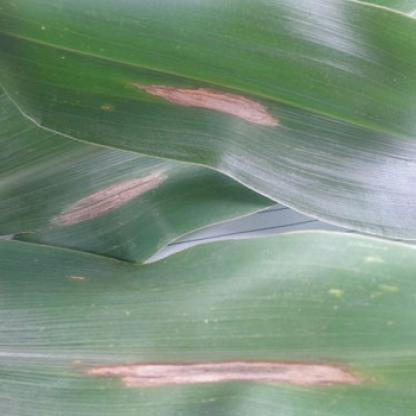Corn leaf blight: (1, 235, 415, 412), (4, 1, 415, 160)
